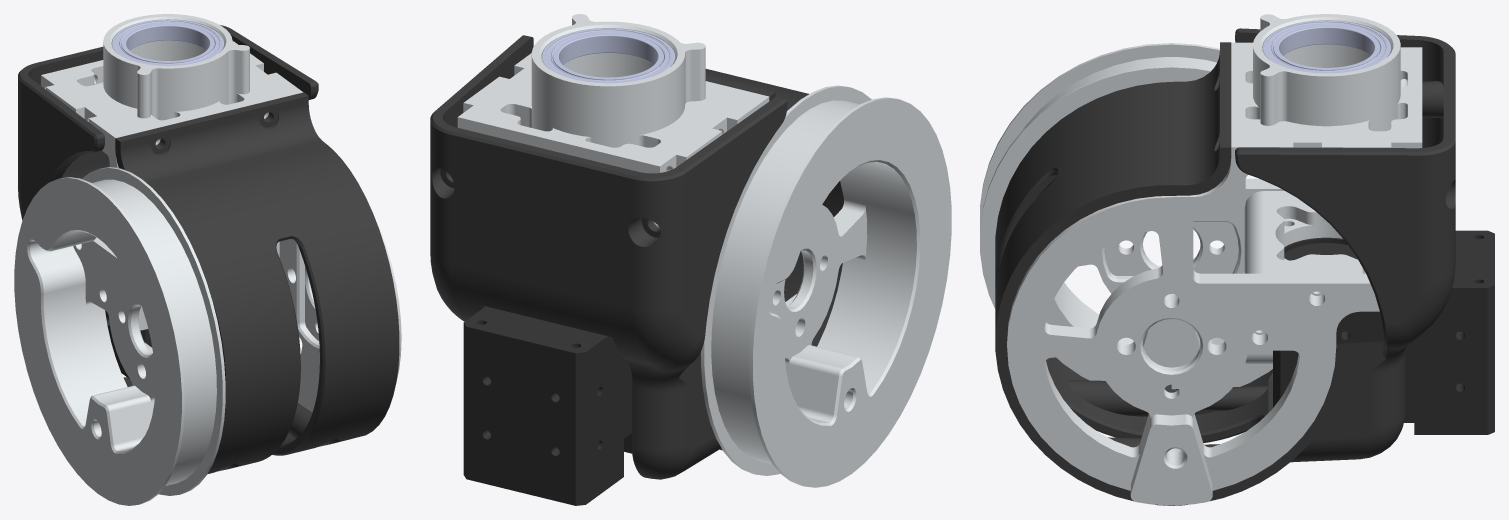
The model's file is elbow_link.dae.
The picture shows the model from 3 angles, left to right: view 1: azimuth 30°, elevation 25°; view 2: azimuth 150°, elevation 25°; view 3: azimuth 270°, elevation 25°; orthographic projection. The views are drawn at different scales.
Parts seen in each view (by area): view 1: Body_1, Body_6, Body_7, Body_2, Body_3, Body_9, Body_11, Body_8; view 2: Body_6, Body_2, Body_5, Body_7, Body_1, Body_9, Body_3, Body_11, Body_8; view 3: Body_3, Body_2, Body_1, Body_6, Body_7, Body_5, Body_4, Body_9, Body_11, Body_8.
Boxes of the visible parts, <box> form: Body_1: <box>115,92,399,474</box>; Body_6: <box>14,73,225,505</box>; Body_7: <box>50,14,285,145</box>; Body_2: <box>18,25,318,386</box>; Body_3: <box>232,41,401,412</box>; Body_9: <box>121,23,214,63</box>; Body_11: <box>115,21,220,65</box>; Body_8: <box>111,19,224,65</box>; Body_6: <box>649,85,951,487</box>; Body_2: <box>430,35,787,479</box>; Body_5: <box>463,306,632,505</box>; Body_7: <box>468,14,747,173</box>; Body_1: <box>705,69,843,346</box>; Body_9: <box>553,33,663,80</box>; Body_3: <box>457,53,531,130</box>; Body_11: <box>545,30,671,82</box>; Body_8: <box>541,28,675,83</box>; Body_3: <box>1007,137,1422,505</box>; Body_2: <box>1171,28,1455,505</box>; Body_1: <box>995,42,1231,505</box>; Body_6: <box>980,42,1422,389</box>; Body_7: <box>1231,14,1422,137</box>; Body_5: <box>1273,230,1494,434</box>; Body_4: <box>1244,191,1365,364</box>; Body_9: <box>1273,25,1379,70</box>; Body_11: <box>1266,22,1387,72</box>; Body_8: <box>1262,20,1390,73</box>.
Bounding box in the file's own units: 0.0691 × 0.1079 × 0.0978.
